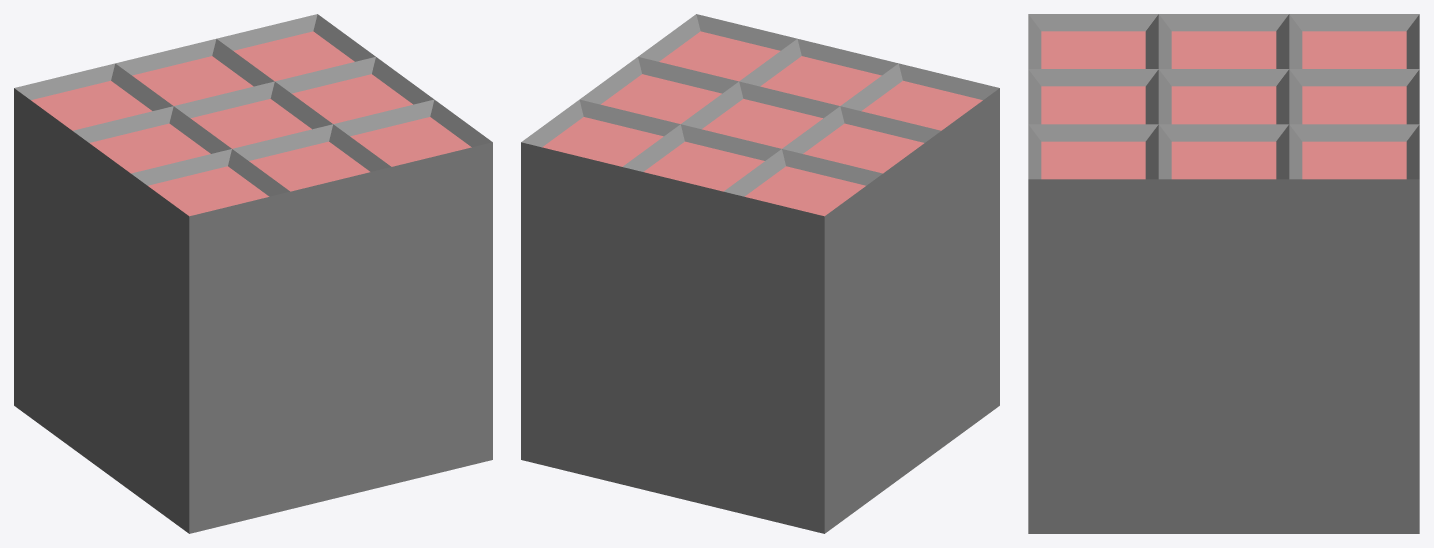
Rendered from SM_FlareGun_1x1x1.gltf.
The picture shows the model from 3 angles, left to right: view 1: azimuth 30°, elevation 25°; view 2: azimuth 150°, elevation 25°; view 3: azimuth 270°, elevation 25°; orthographic projection. The views are drawn at different scales.
Parts seen in each view (by area): view 1: SM_FlareGun_1x1x1; view 2: SM_FlareGun_1x1x1; view 3: SM_FlareGun_1x1x1.
Part boxes in pixels (left/top/right/bottom): SM_FlareGun_1x1x1: left=14, top=14, right=492, bottom=533; SM_FlareGun_1x1x1: left=521, top=14, right=999, bottom=533; SM_FlareGun_1x1x1: left=1028, top=14, right=1419, bottom=533.
Size of the model in its own units: 0.3 by 0.3 by 0.3.
